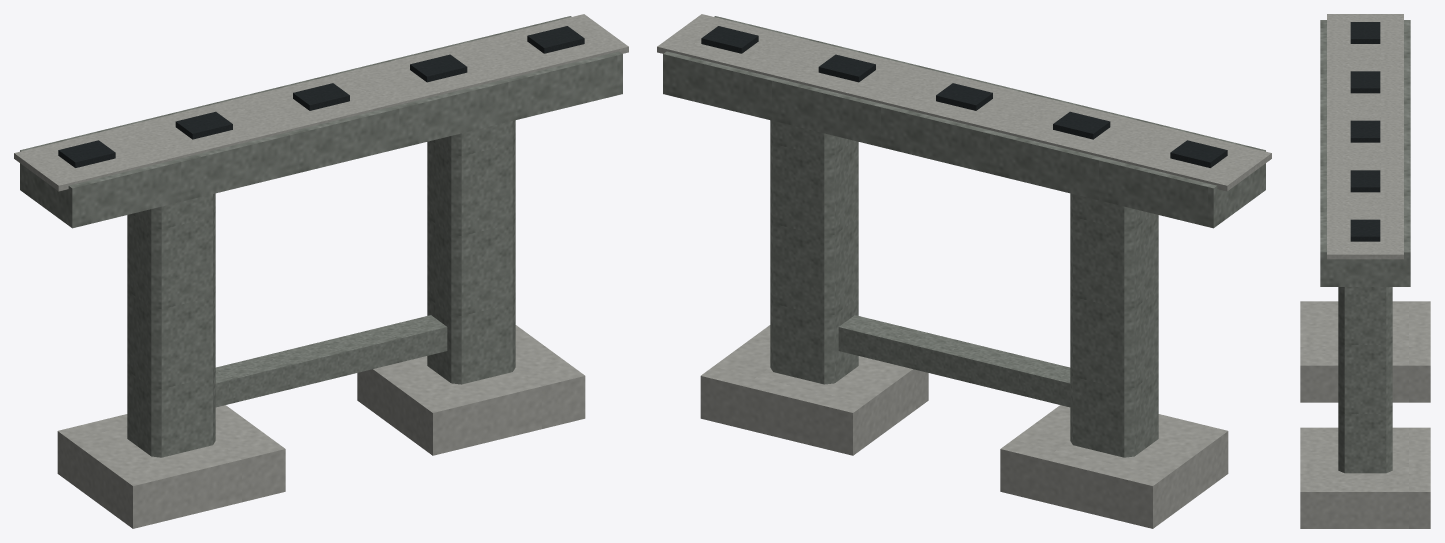
Rendered from PZ_Pier_TwinColumn_07m.glb.
3 renders of one model, left to right at view 1: azimuth 30°, elevation 25°; view 2: azimuth 150°, elevation 25°; view 3: azimuth 270°, elevation 25°, orthographic. The views are drawn at different scales.
Parts seen in each view (by area): view 1: PZ_Pier_TwinColumn_07m_PIER_HEADSTOCK, PZ_Pier_TwinColumn_07m_CAP_COPING, PZ_Pier_TwinColumn_07m_WEST_OCTAGONAL_COLUMN, PZ_Pier_TwinColumn_07m_EAST_OCTAGONAL_COLUMN, PZ_Pier_TwinColumn_07m_WEST_COLUMN_FOOTING, PZ_Pier_TwinColumn_07m_EAST_COLUMN_FOOTING, PZ_Pier_TwinColumn_07m_CENTRE_TIE_BEAM, PZ_Pier_TwinColumn_07m_NEOPRENE_BEARING_4, PZ_Pier_TwinColumn_07m_NEOPRENE_BEARING_5, PZ_Pier_TwinColumn_07m_NEOPRENE_BEARING_1, PZ_Pier_TwinColumn_07m_NEOPRENE_BEARING_2, PZ_Pier_TwinColumn_07m_NEOPRENE_BEARING_3; view 2: PZ_Pier_TwinColumn_07m_PIER_HEADSTOCK, PZ_Pier_TwinColumn_07m_CAP_COPING, PZ_Pier_TwinColumn_07m_WEST_OCTAGONAL_COLUMN, PZ_Pier_TwinColumn_07m_EAST_OCTAGONAL_COLUMN, PZ_Pier_TwinColumn_07m_WEST_COLUMN_FOOTING, PZ_Pier_TwinColumn_07m_EAST_COLUMN_FOOTING, PZ_Pier_TwinColumn_07m_CENTRE_TIE_BEAM, PZ_Pier_TwinColumn_07m_NEOPRENE_BEARING_4, PZ_Pier_TwinColumn_07m_NEOPRENE_BEARING_5, PZ_Pier_TwinColumn_07m_NEOPRENE_BEARING_1, PZ_Pier_TwinColumn_07m_NEOPRENE_BEARING_2, PZ_Pier_TwinColumn_07m_NEOPRENE_BEARING_3; view 3: PZ_Pier_TwinColumn_07m_CAP_COPING, PZ_Pier_TwinColumn_07m_EAST_COLUMN_FOOTING, PZ_Pier_TwinColumn_07m_EAST_OCTAGONAL_COLUMN, PZ_Pier_TwinColumn_07m_WEST_COLUMN_FOOTING, PZ_Pier_TwinColumn_07m_PIER_HEADSTOCK, PZ_Pier_TwinColumn_07m_NEOPRENE_BEARING_2, PZ_Pier_TwinColumn_07m_NEOPRENE_BEARING_3, PZ_Pier_TwinColumn_07m_NEOPRENE_BEARING_4, PZ_Pier_TwinColumn_07m_NEOPRENE_BEARING_5, PZ_Pier_TwinColumn_07m_NEOPRENE_BEARING_1.
Boxes of the visible parts, x1,y1,x2,y2 form: PZ_Pier_TwinColumn_07m_PIER_HEADSTOCK: [20, 16, 622, 228]; PZ_Pier_TwinColumn_07m_CAP_COPING: [14, 14, 628, 191]; PZ_Pier_TwinColumn_07m_WEST_OCTAGONAL_COLUMN: [127, 193, 215, 457]; PZ_Pier_TwinColumn_07m_EAST_OCTAGONAL_COLUMN: [427, 120, 515, 384]; PZ_Pier_TwinColumn_07m_WEST_COLUMN_FOOTING: [57, 405, 285, 528]; PZ_Pier_TwinColumn_07m_EAST_COLUMN_FOOTING: [357, 325, 585, 455]; PZ_Pier_TwinColumn_07m_CENTRE_TIE_BEAM: [215, 315, 447, 407]; PZ_Pier_TwinColumn_07m_NEOPRENE_BEARING_4: [410, 54, 467, 82]; PZ_Pier_TwinColumn_07m_NEOPRENE_BEARING_5: [527, 26, 584, 53]; PZ_Pier_TwinColumn_07m_NEOPRENE_BEARING_1: [58, 140, 115, 167]; PZ_Pier_TwinColumn_07m_NEOPRENE_BEARING_2: [175, 111, 232, 139]; PZ_Pier_TwinColumn_07m_NEOPRENE_BEARING_3: [293, 83, 349, 110]; PZ_Pier_TwinColumn_07m_PIER_HEADSTOCK: [663, 16, 1265, 228]; PZ_Pier_TwinColumn_07m_CAP_COPING: [657, 14, 1271, 191]; PZ_Pier_TwinColumn_07m_WEST_OCTAGONAL_COLUMN: [1070, 193, 1158, 457]; PZ_Pier_TwinColumn_07m_EAST_OCTAGONAL_COLUMN: [770, 120, 858, 384]; PZ_Pier_TwinColumn_07m_WEST_COLUMN_FOOTING: [1000, 405, 1228, 528]; PZ_Pier_TwinColumn_07m_EAST_COLUMN_FOOTING: [700, 325, 928, 455]; PZ_Pier_TwinColumn_07m_CENTRE_TIE_BEAM: [838, 315, 1070, 407]; PZ_Pier_TwinColumn_07m_NEOPRENE_BEARING_4: [818, 54, 875, 82]; PZ_Pier_TwinColumn_07m_NEOPRENE_BEARING_5: [701, 26, 758, 53]; PZ_Pier_TwinColumn_07m_NEOPRENE_BEARING_1: [1170, 140, 1227, 167]; PZ_Pier_TwinColumn_07m_NEOPRENE_BEARING_2: [1053, 111, 1110, 139]; PZ_Pier_TwinColumn_07m_NEOPRENE_BEARING_3: [936, 83, 992, 110]; PZ_Pier_TwinColumn_07m_CAP_COPING: [1327, 14, 1403, 259]; PZ_Pier_TwinColumn_07m_EAST_COLUMN_FOOTING: [1300, 427, 1430, 528]; PZ_Pier_TwinColumn_07m_EAST_OCTAGONAL_COLUMN: [1338, 287, 1392, 473]; PZ_Pier_TwinColumn_07m_WEST_COLUMN_FOOTING: [1300, 301, 1430, 402]; PZ_Pier_TwinColumn_07m_PIER_HEADSTOCK: [1320, 20, 1410, 286]; PZ_Pier_TwinColumn_07m_NEOPRENE_BEARING_2: [1350, 71, 1380, 93]; PZ_Pier_TwinColumn_07m_NEOPRENE_BEARING_3: [1350, 120, 1380, 142]; PZ_Pier_TwinColumn_07m_NEOPRENE_BEARING_4: [1350, 170, 1380, 192]; PZ_Pier_TwinColumn_07m_NEOPRENE_BEARING_5: [1350, 219, 1380, 241]; PZ_Pier_TwinColumn_07m_NEOPRENE_BEARING_1: [1350, 22, 1380, 43].
Size of the model in its own units: 10.46 by 6.17 by 2.4.
4 materials, 4 textured.
